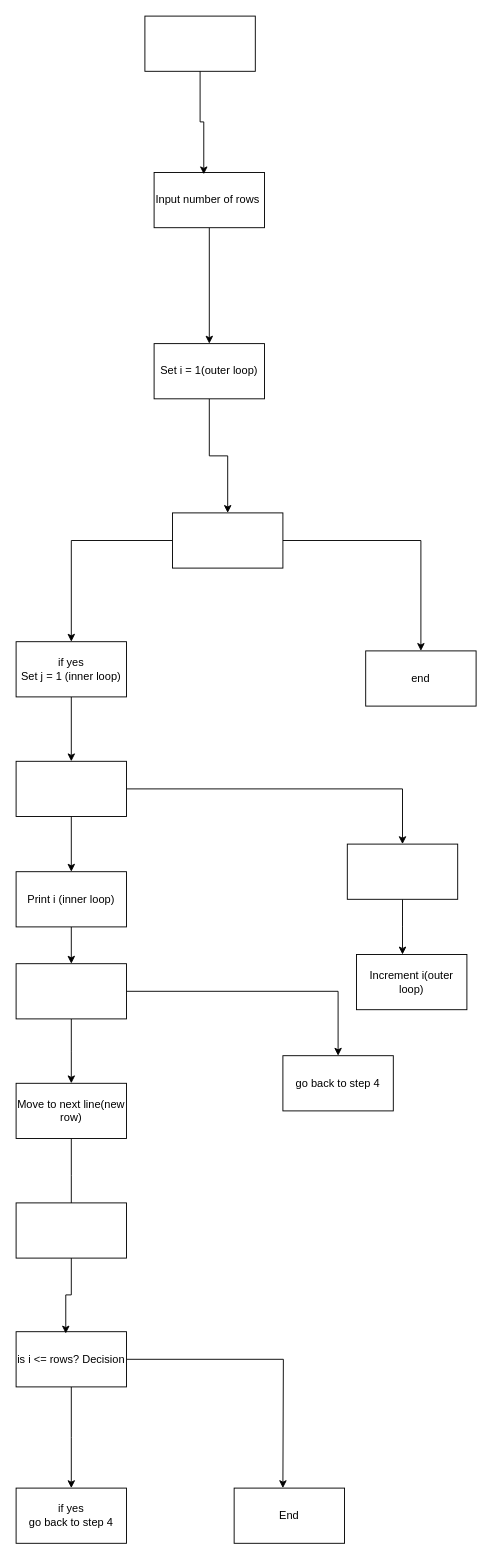
The diagram is 492 pixels wide and 1559 high, and some of its shapes have lost their labels. The shapes that lost their labels are listed below. From the top down, each one's centre as x and y in pixels, then its label:
At point 199,43: "Start".
At point 227,540: "is i <= rows? (Decision)".
At point 70,788: "is j <= i?".
At point 402,871: "if no Move to next line".
At point 70,991: "Is j <= i ? (decision)".
At point 70,1230: "Increment i (outer loop)".
